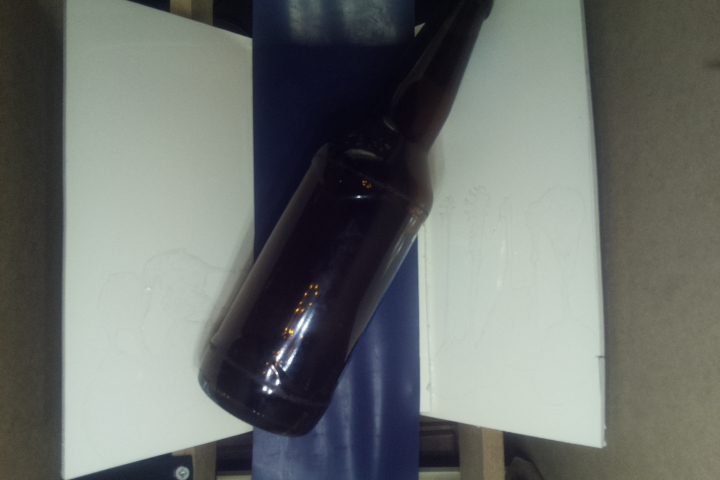makju: (196, 1, 505, 439)
